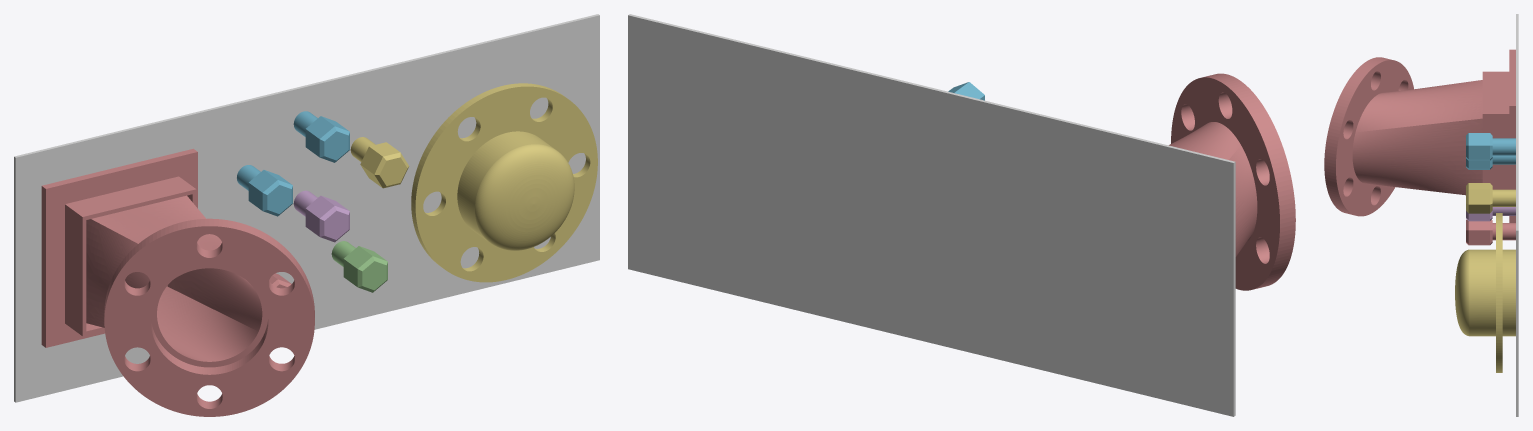
File: pickup_layout.glb
The picture shows the model from 3 angles, left to right: view 1: azimuth 30°, elevation 25°; view 2: azimuth 150°, elevation 25°; view 3: azimuth 270°, elevation 25°; orthographic projection. The views are drawn at different scales.
Parts seen in each view (by area): view 1: world, 0.obj, 1.obj, 6.obj, 4.obj, 7.obj, 3.obj, 2.obj; view 2: world, 0.obj; view 3: 0.obj, 1.obj, 6.obj, world, 7.obj, 5.obj, 2.obj, 3.obj.
Part boxes in pixels (x1,y1,x2,y2): world: (14,14,599,402); 0.obj: (41,148,314,416); 1.obj: (411,83,597,282); 6.obj: (350,137,409,188); 4.obj: (331,241,387,292); 7.obj: (293,111,349,162); 3.obj: (293,190,349,242); 2.obj: (237,165,292,216); world: (628,14,1235,416); 0.obj: (1169,73,1295,290); 0.obj: (1324,49,1515,222); 1.obj: (1455,213,1515,372); 6.obj: (1466,183,1515,213); world: (1516,14,1518,416); 7.obj: (1466,133,1515,160); 5.obj: (1466,219,1515,245); 2.obj: (1466,155,1515,169); 3.obj: (1466,207,1515,221).
Bounding box in the file's own units: 38.44 × 15.4 × 14.57.
